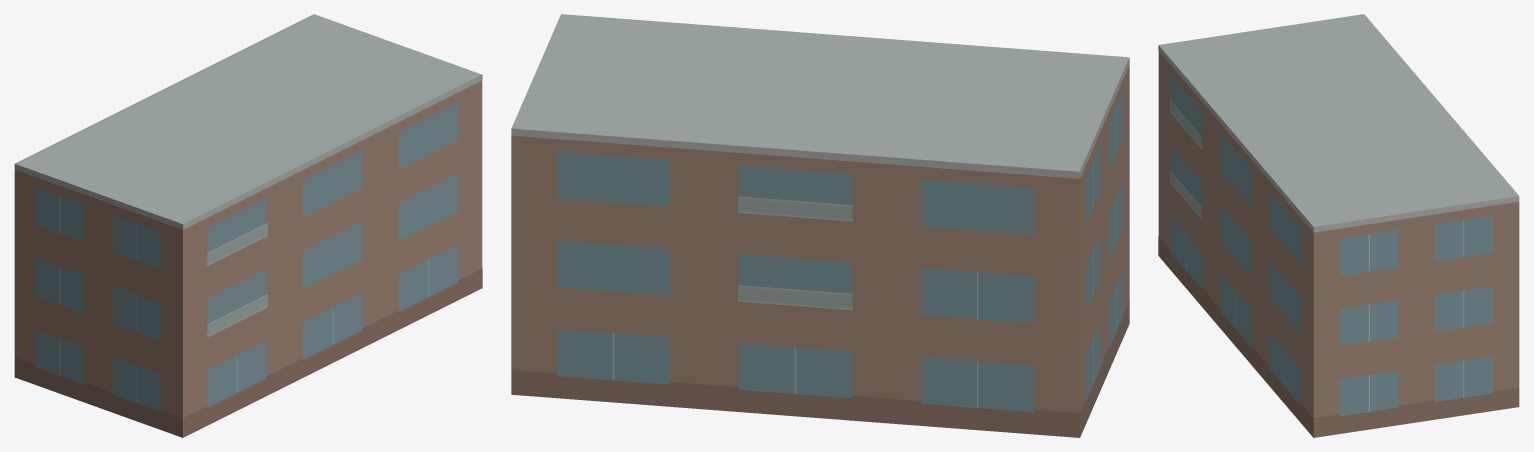
The model's file is survey-upis-32913381.glb.
The picture shows the model from 3 angles, left to right: view 1: azimuth 30°, elevation 25°; view 2: azimuth 150°, elevation 25°; view 3: azimuth 270°, elevation 25°; orthographic projection. The views are drawn at different scales.
Parts seen in each view (by area): view 1: survey-upis-32913381.tmp; view 2: survey-upis-32913381.tmp; view 3: survey-upis-32913381.tmp.
Part boxes in pixels (x1=…): survey-upis-32913381.tmp: x1=14, y1=14, x2=482, y2=437; survey-upis-32913381.tmp: x1=511, y1=14, x2=1129, y2=437; survey-upis-32913381.tmp: x1=1158, y1=14, x2=1519, y2=437.
Bounding box in the file's own units: 19.83 × 9.15 × 14.2.
